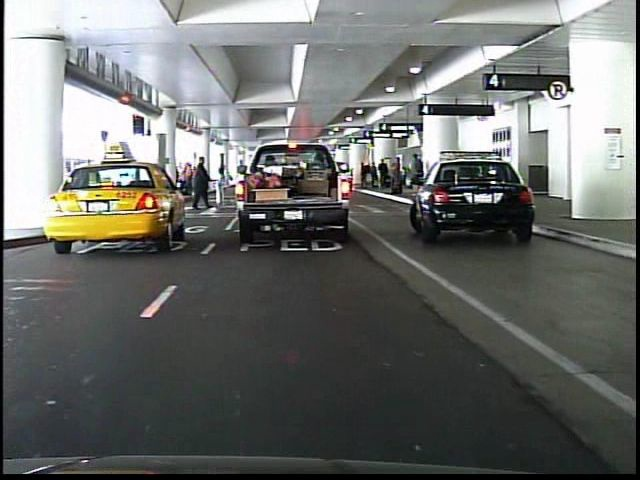person: (186, 154, 212, 214), (259, 146, 282, 202)
